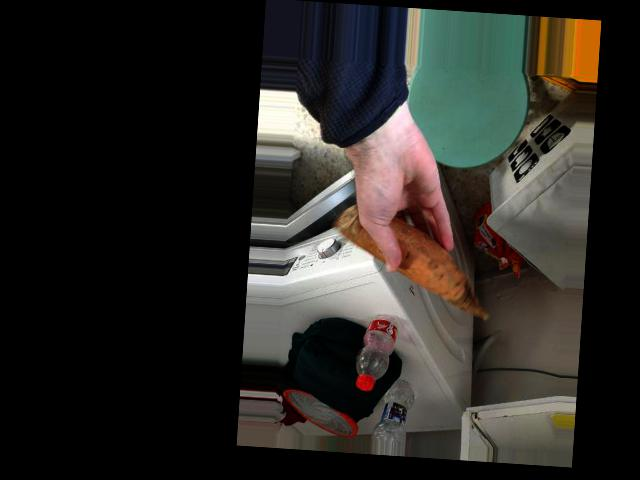sweet_potato: (367, 217, 458, 305)
